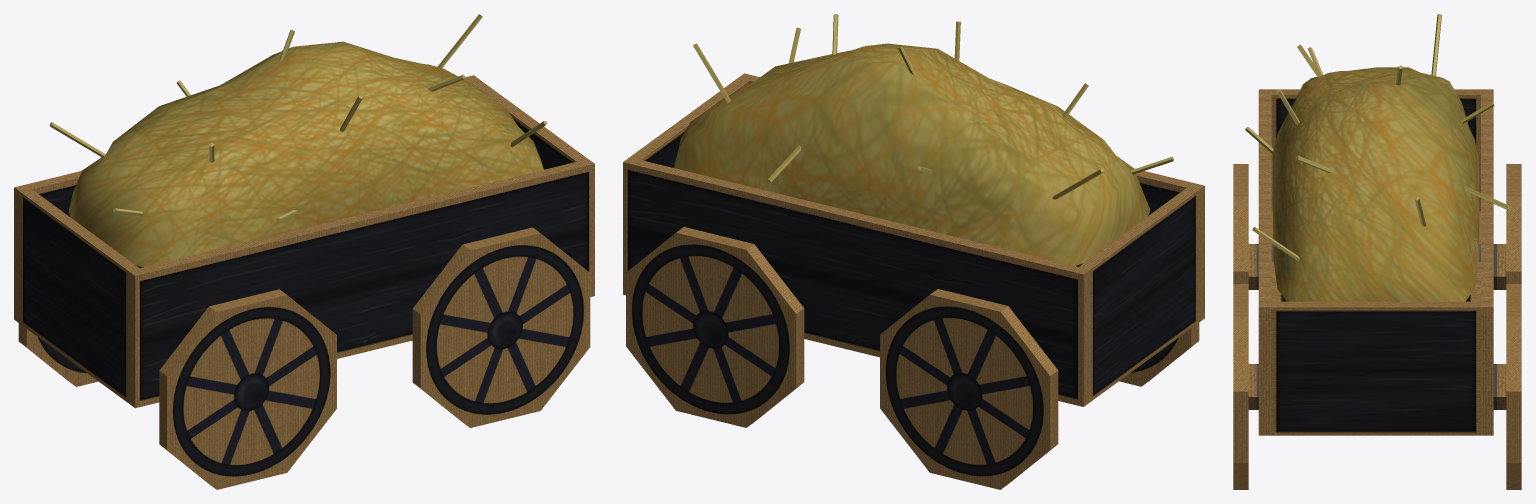
File: Castle_cart.fbx
3 renders of one model, left to right at view 1: azimuth 30°, elevation 25°; view 2: azimuth 150°, elevation 25°; view 3: azimuth 270°, elevation 25°, orthographic. The views are drawn at different scales.
Visible parts, largest first — view 1: Cart; view 2: Cart; view 3: Cart.
Part boxes in pixels (left/top/right/bottom): Cart: left=14, top=14, right=594, bottom=489; Cart: left=623, top=14, right=1204, bottom=489; Cart: left=1233, top=14, right=1521, bottom=489.
Size of the model in its own units: 2 by 1.49 by 1.12.
